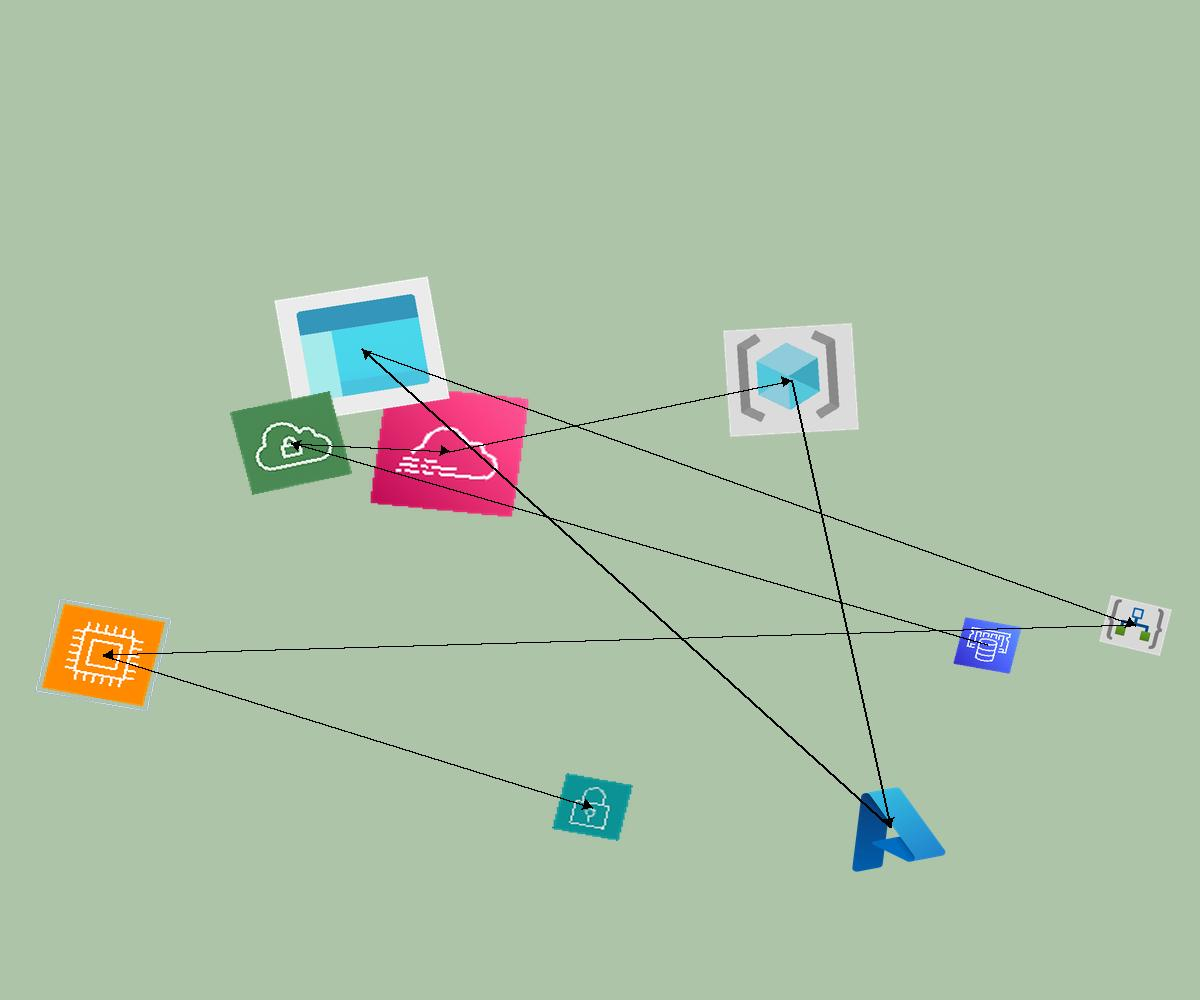AWS-Category_Compute: (34, 597, 173, 713)
AWS-CloudTrail: (369, 384, 530, 518)
AWS-ElastiCache: (953, 617, 1022, 674)
AWS-Private-subnet: (552, 773, 633, 841)
AWS-Private_vpc: (229, 391, 353, 495)
Azure_integration-204-Logic-Apps: (1099, 595, 1172, 656)
Azure_management-portal: (274, 276, 450, 423)
Azure_resource_group: (723, 323, 859, 437)
Azure_services: (828, 775, 952, 879)
